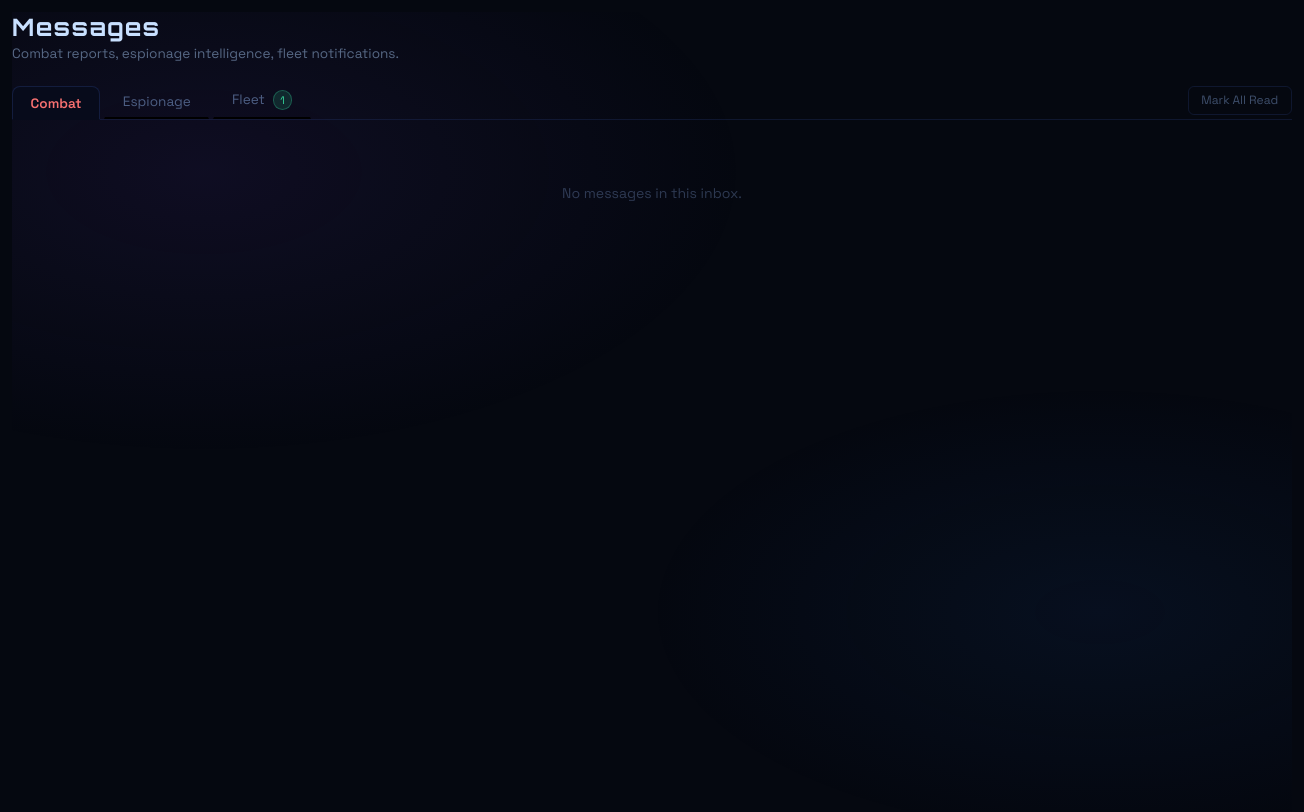
MessagesPanel › fleet notification failure reasons › shows "planet no longer exists" hint when failureReason is planet_missing
Click the button "Fleet 1" at (262, 100), box [213, 82, 311, 119]
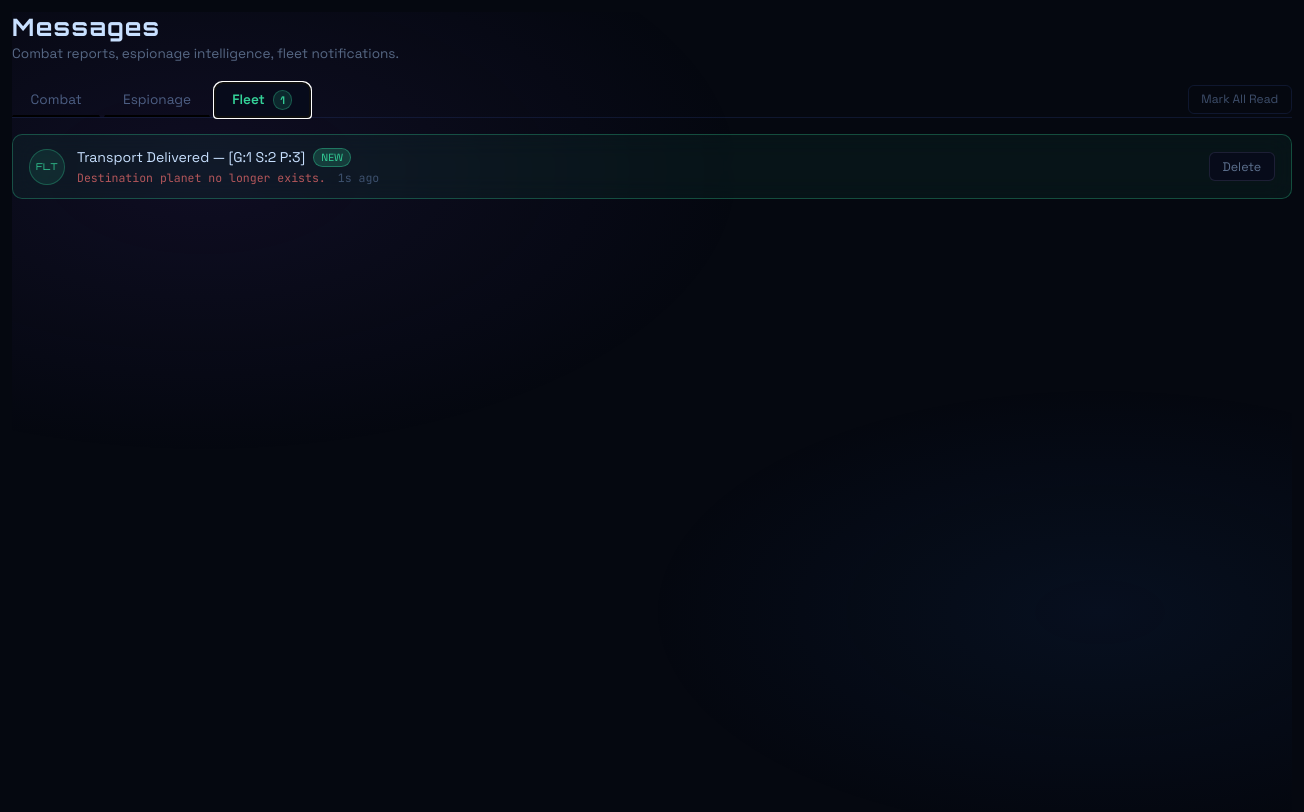
Expected: the text "Destination planet no longer exists." is shown, [77, 170, 326, 185]
